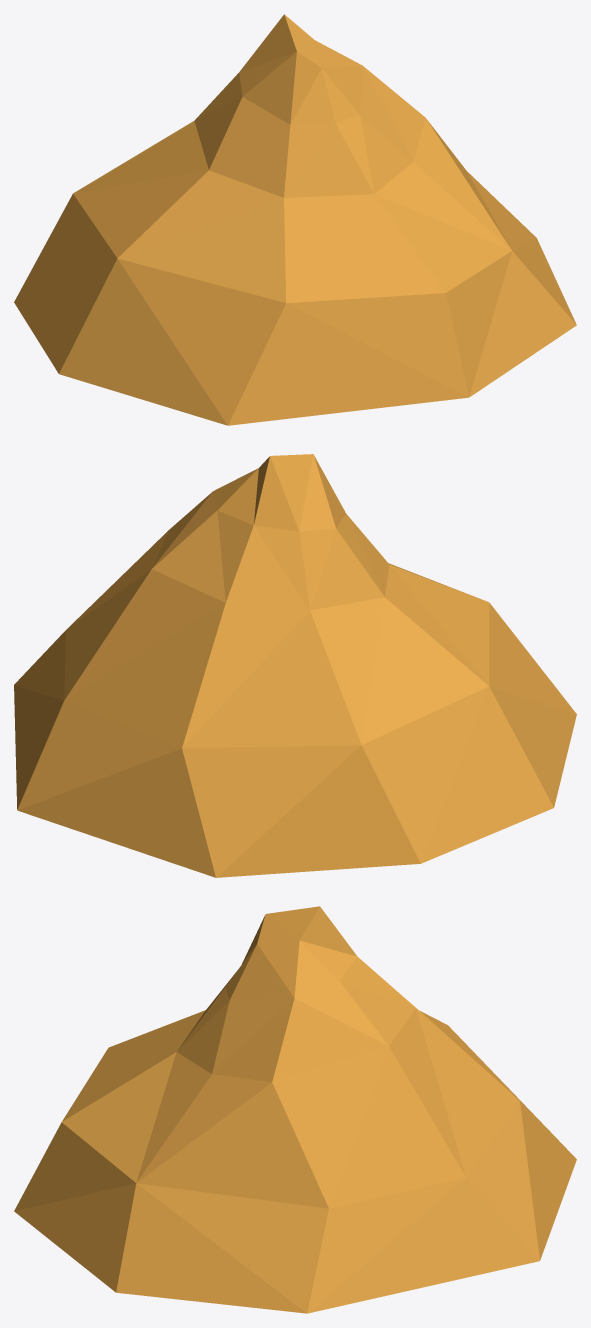
File: deposit-salt.fbx
3 views of the same model, one above another, from view 1: azimuth 30°, elevation 25°; view 2: azimuth 150°, elevation 25°; view 3: azimuth 270°, elevation 25° (orthographic). The views are drawn at different scales.
Visible parts, largest first — view 1: deposit-salt; view 2: deposit-salt; view 3: deposit-salt.
Part boxes in pixels (box(x1,y1,x2,y2)): deposit-salt: box(14, 14, 576, 425); deposit-salt: box(14, 454, 576, 877); deposit-salt: box(14, 906, 576, 1313).
Bounding box in the file's own units: 1.25 × 0.6895 × 1.21.
